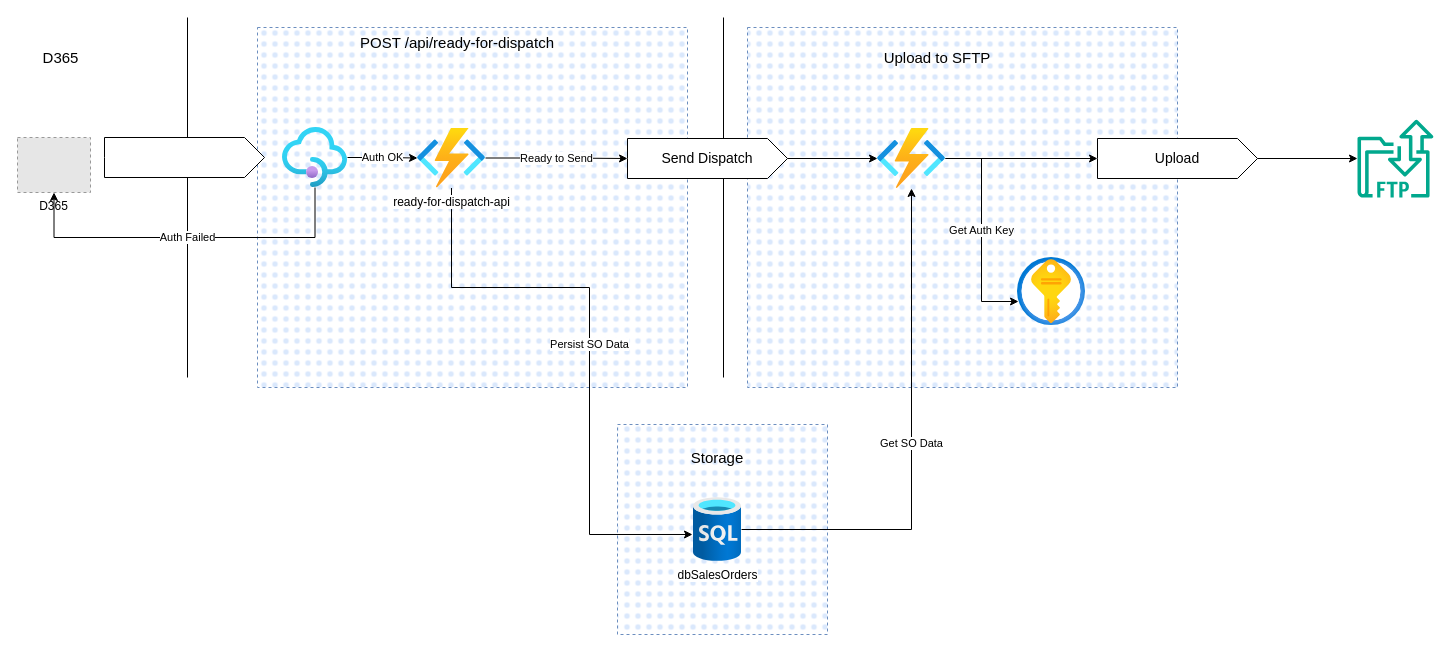
The diagram is 1451 pixels wide and 652 high, and some of its shapes have lost their labels. Grey dashed boxes stand in for pictures. Each missing label, with the box of its shape:
API Management: (282, 127, 347, 187)
Create Dispatch File: (877, 128, 945, 188)
Ready For Dispatch: (104, 136, 264, 178)
